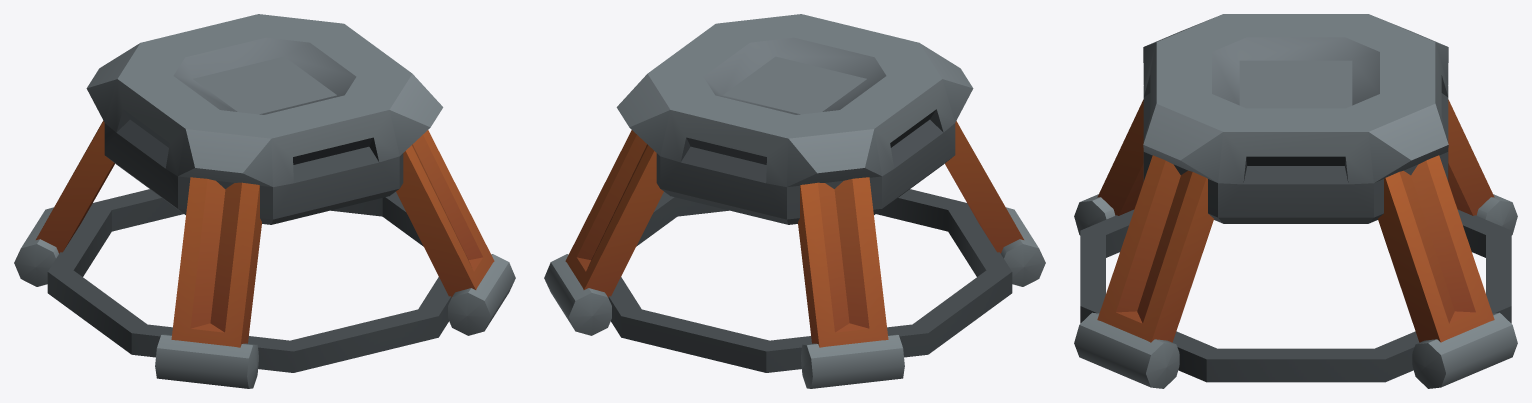
File: space-structure-low.glb
3 renders of one model, left to right at view 1: azimuth 30°, elevation 25°; view 2: azimuth 150°, elevation 25°; view 3: azimuth 270°, elevation 25°, orthographic. The views are drawn at different scales.
Visible parts, largest first — view 1: structure_low; view 2: structure_low; view 3: structure_low.
Boxes of the visible parts, bbox=[...] form: structure_low: bbox=[14, 14, 515, 388]; structure_low: bbox=[544, 14, 1045, 388]; structure_low: bbox=[1074, 14, 1517, 388].
Bounding box in the file's own units: 1.75 × 1 × 1.75.
